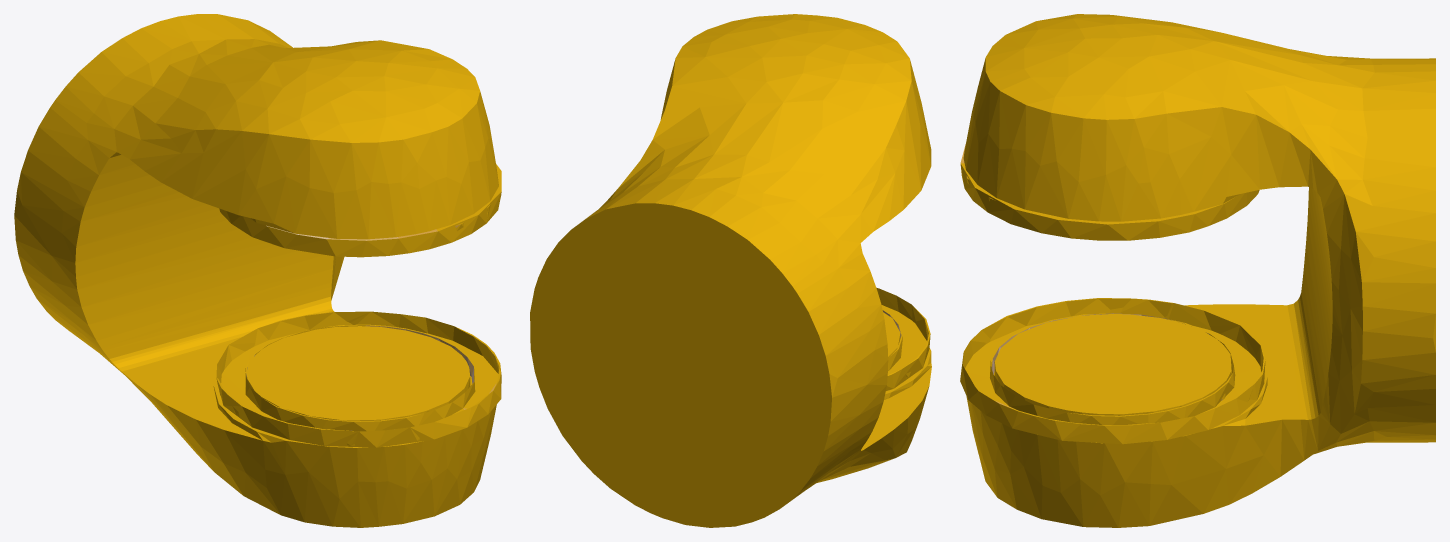
The model's file is KukaKR6R900Link1.dae.
The picture shows the model from 3 angles, left to right: view 1: azimuth 30°, elevation 25°; view 2: azimuth 150°, elevation 25°; view 3: azimuth 270°, elevation 25°; orthographic projection. The views are drawn at different scales.
Visible parts, largest first — view 1: KUKAKR6R900Link1; view 2: KUKAKR6R900Link1; view 3: KUKAKR6R900Link1.
Part boxes in pixels (left/top/right/bottom): KUKAKR6R900Link1: left=14, top=14, right=501, bottom=527; KUKAKR6R900Link1: left=530, top=14, right=931, bottom=527; KUKAKR6R900Link1: left=960, top=14, right=1435, bottom=527.
Bounding box in the file's own units: 0.217 × 0.2642 × 0.2716.
